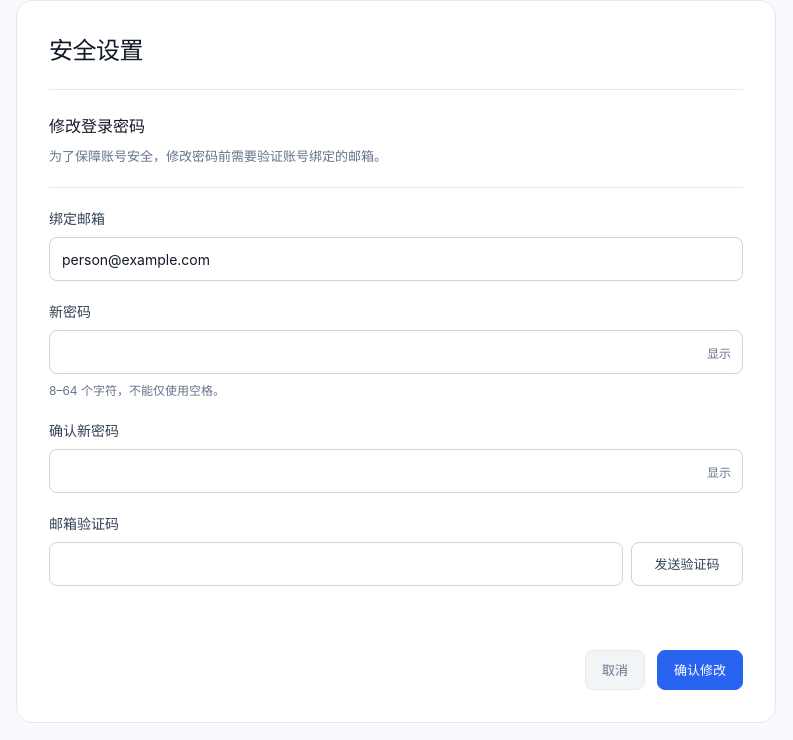
SecuritySettingsPage › keeps passwords with surrounding spaces unchanged and rejects a mismatch
Type " 1234567 " into the password field labelled "新密码".
click(396, 352); type(" 1234567 ")  # box [49,330,743,374]
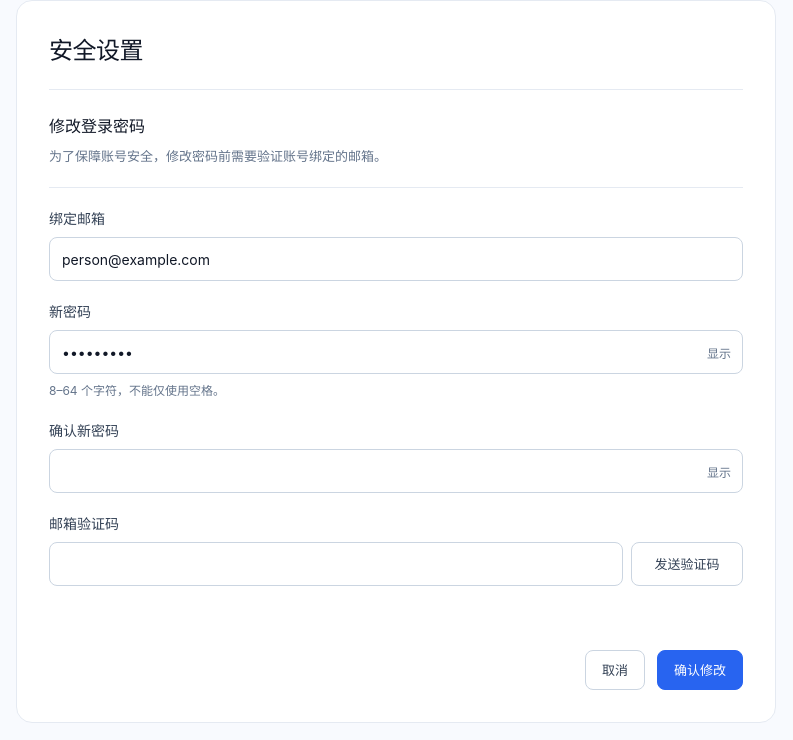
Type "1234567 " into the password field labelled "确认新密码".
click(396, 471); type("1234567 ")  # box [49,449,743,493]
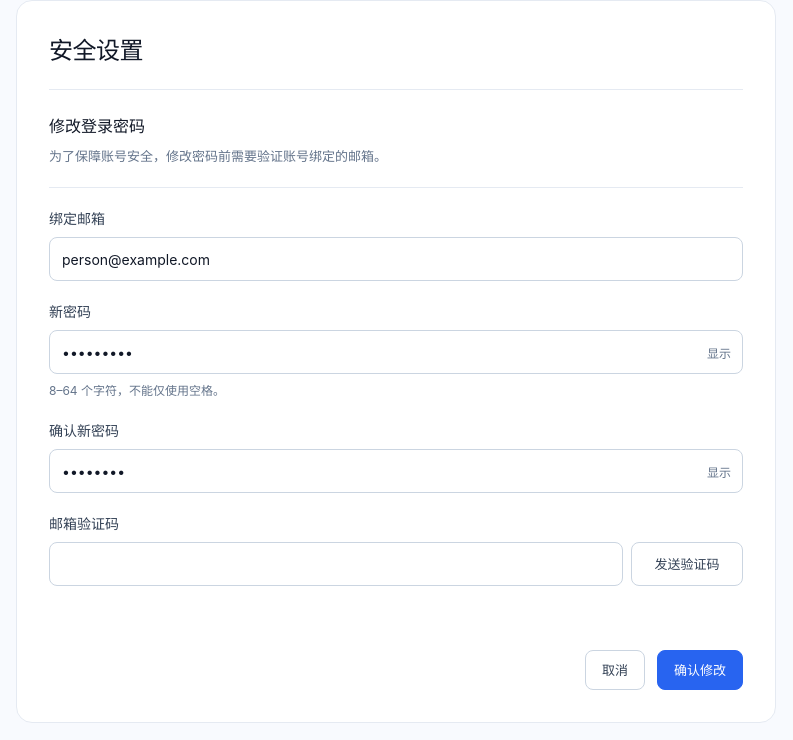
Type "123456" into the field labelled "邮箱验证码".
click(336, 564); type("123456")  # box [49,542,623,586]
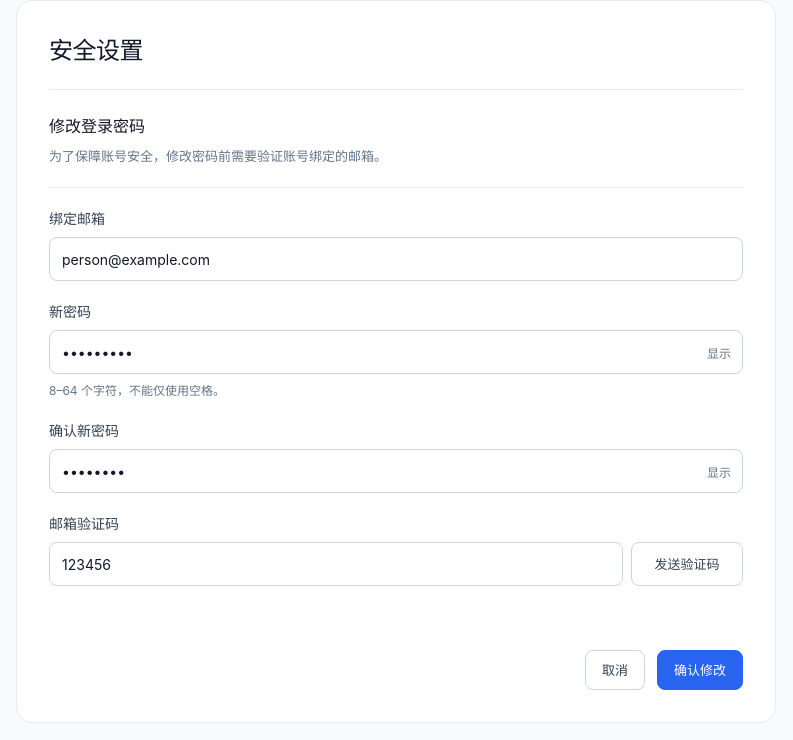
Click the button "确认修改".
click(700, 670)  # box [657,650,743,690]
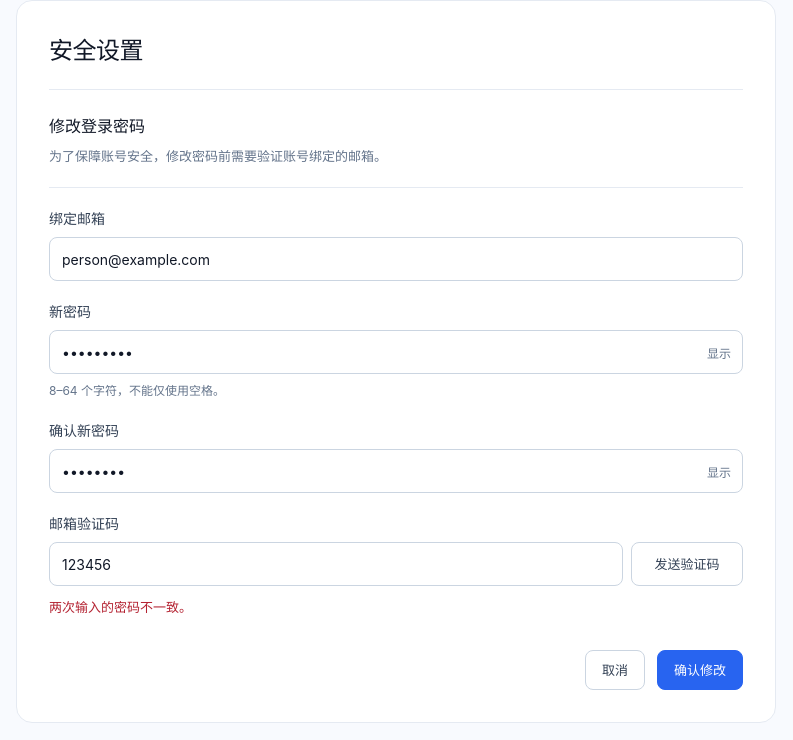
Expected: the message shows "两次输入的密码不一致", [49,599,192,615]
